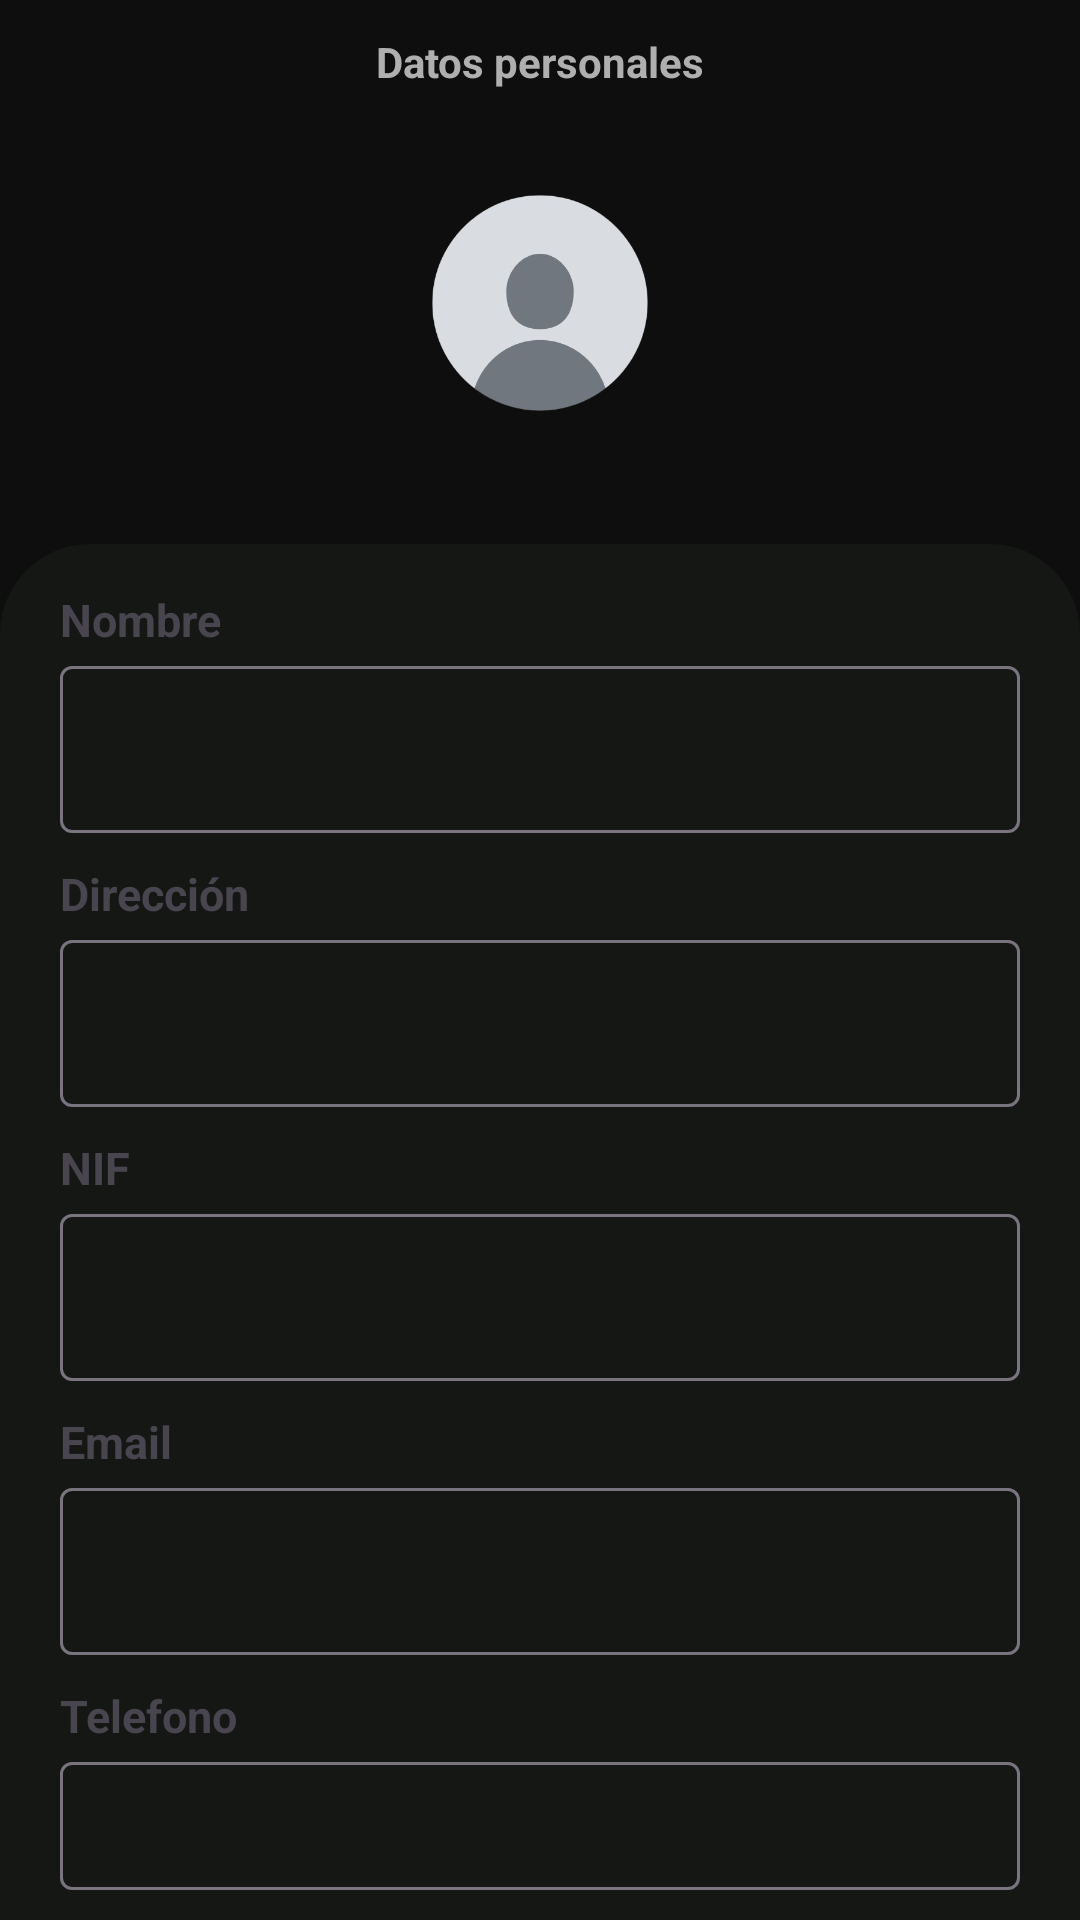

Where icons sit on this 1080px×1920px app screen, as (x1, y1, x2, y2):
profile: (432, 195, 648, 411)
